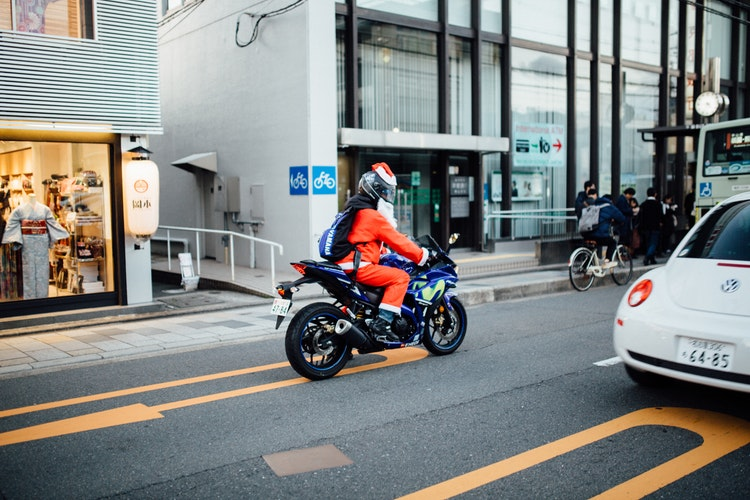helmet: (358, 168, 396, 204)
